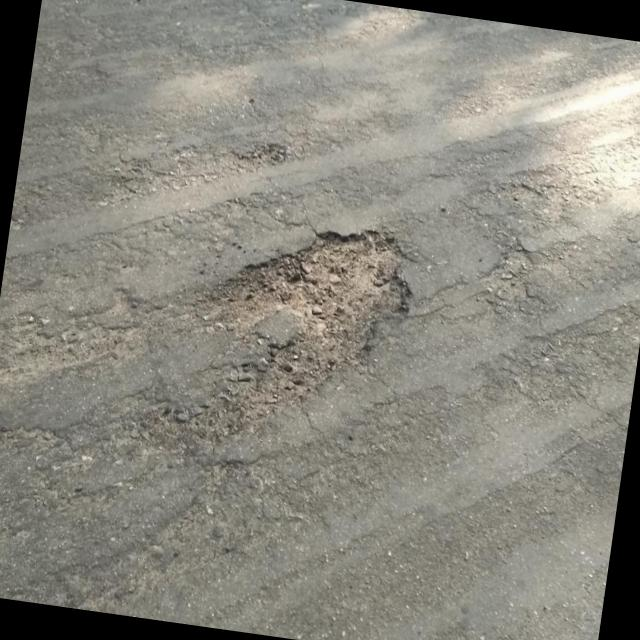Lubang: (162, 232, 407, 441)
